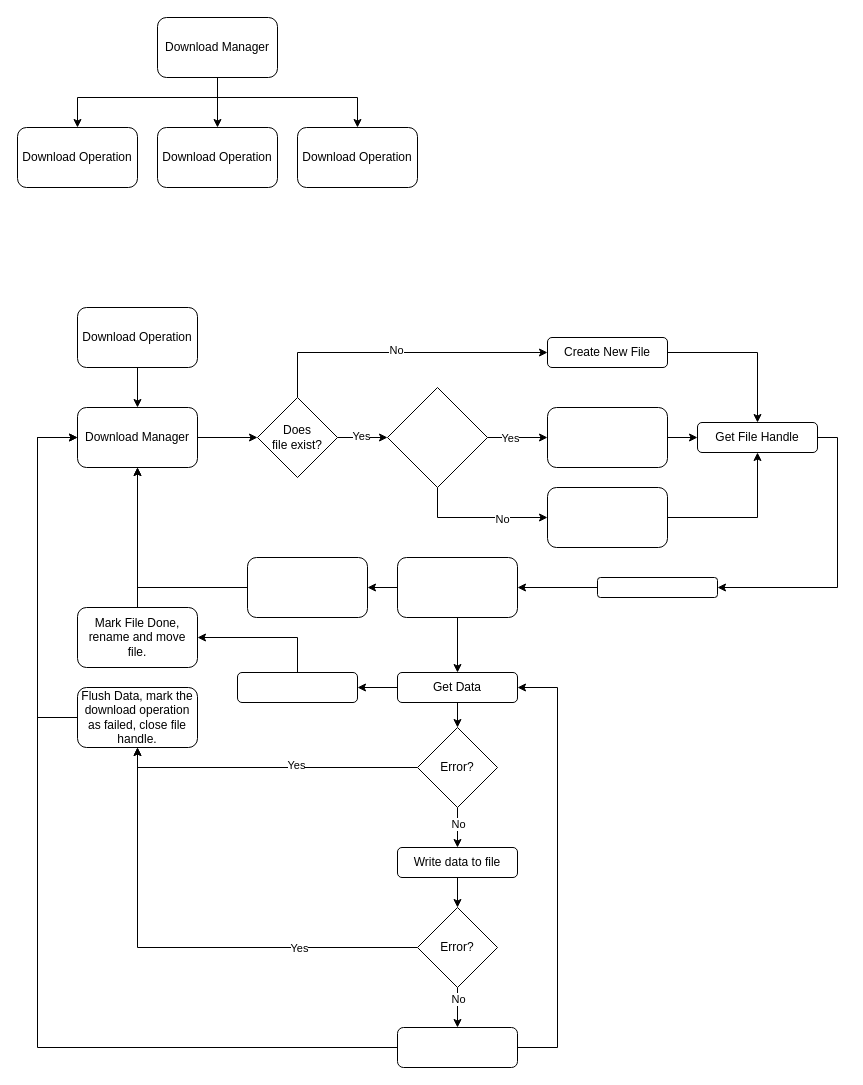
The diagram is 863 pixels wide and 1085 high, and some of its shapes have lost their labels. Each missing label, with the box of its shape:
Determine whether the responding server supports range mode: (396, 556, 518, 618)
Does the server support range mode?: (386, 386, 488, 488)
Download Finished: (236, 672, 358, 702)
Mark the download OP's metadata with that information.: (246, 556, 368, 618)
Open File in Append Mode: (546, 406, 668, 468)
Open File in Write Mode to truncate data: (546, 486, 668, 548)
Start Download: (596, 576, 718, 598)
Update Download progress: (396, 1026, 518, 1068)
